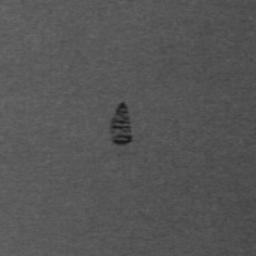Secondary rust skin: (109, 101, 133, 147)
